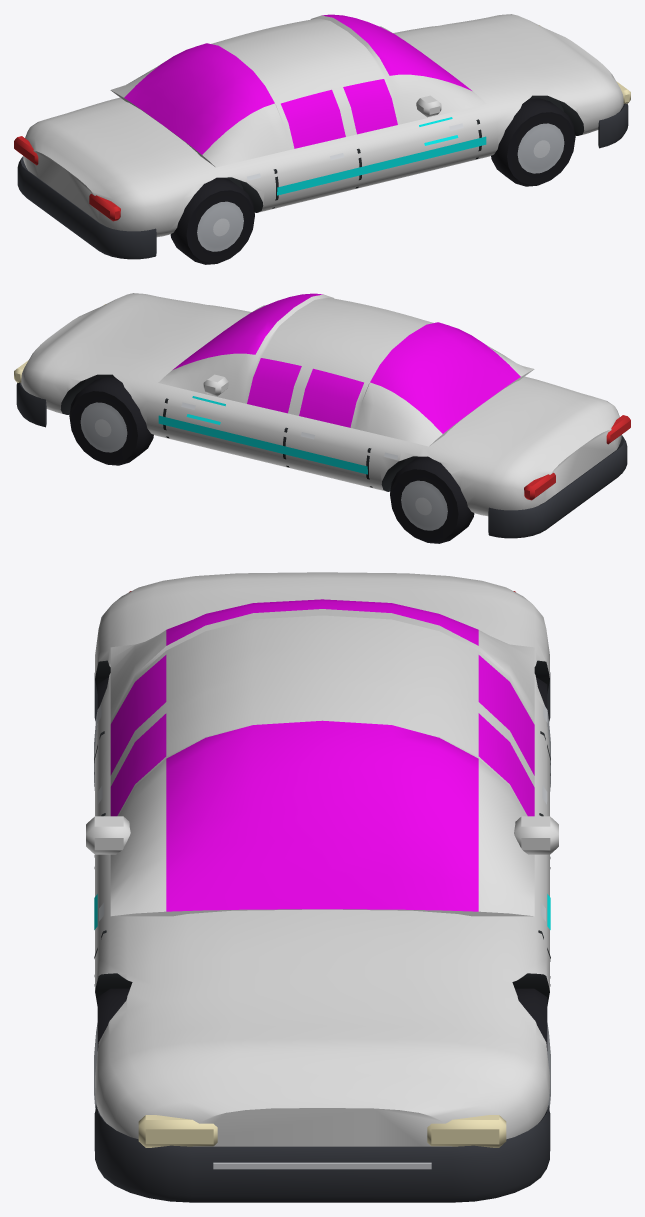
File: sedan.glb
3 renders of one model, top to bottom at view 1: azimuth 30°, elevation 25°; view 2: azimuth 150°, elevation 25°; view 3: azimuth 270°, elevation 25°, orthographic. The views are drawn at different scales.
Parts seen in each view (by area): view 1: LOD0; view 2: LOD0; view 3: LOD0.
Part boxes in pixels (x1,y1,x2,y2): LOD0: [14, 14, 630, 264]; LOD0: [14, 293, 630, 543]; LOD0: [86, 572, 558, 1202].
Size of what is drawn, in the model's own units: 4.77 by 1.3 by 1.84.
